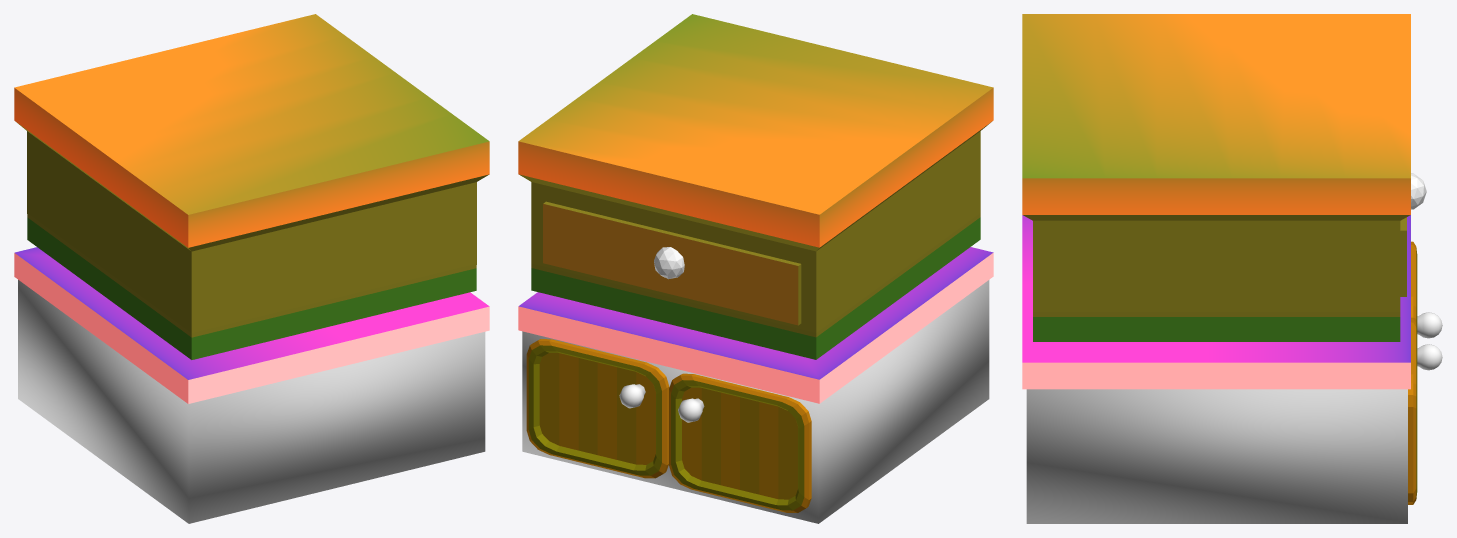
File: Block.fbx
3 views of the same model, side by side, from view 1: azimuth 30°, elevation 25°; view 2: azimuth 150°, elevation 25°; view 3: azimuth 270°, elevation 25° (orthographic). The views are drawn at different scales.
Visible parts, largest first — view 1: Base, Counter, Top, Counter_Top, Counter_Surface; view 2: Base, Top, Counter_Doors, Counter, Counter_Top, Counter_Surface, Handles, Handle; view 3: Top, Base, Counter, Counter_Top, Counter_Surface, Counter_Doors, Handles.
Boxes of the visible parts, <box> form: Base: <box>14,88,489,359</box>; Counter: <box>18,280,485,523</box>; Top: <box>14,14,489,214</box>; Counter_Top: <box>14,253,489,403</box>; Counter_Surface: <box>14,247,489,379</box>; Base: <box>518,88,993,359</box>; Top: <box>519,14,993,214</box>; Counter_Doors: <box>526,339,811,512</box>; Counter: <box>522,280,989,523</box>; Counter_Top: <box>518,253,993,403</box>; Counter_Surface: <box>519,247,993,379</box>; Handles: <box>619,384,704,422</box>; Handle: <box>654,247,684,279</box>; Top: <box>1022,14,1410,178</box>; Base: <box>1022,178,1410,341</box>; Counter: <box>1026,389,1407,523</box>; Counter_Top: <box>1022,362,1410,389</box>; Counter_Surface: <box>1022,215,1410,362</box>; Counter_Doors: <box>1408,241,1417,504</box>; Handles: <box>1417,312,1442,370</box>.
Size of what is drawn, in the model's own units: 100 by 98.56 by 108.
